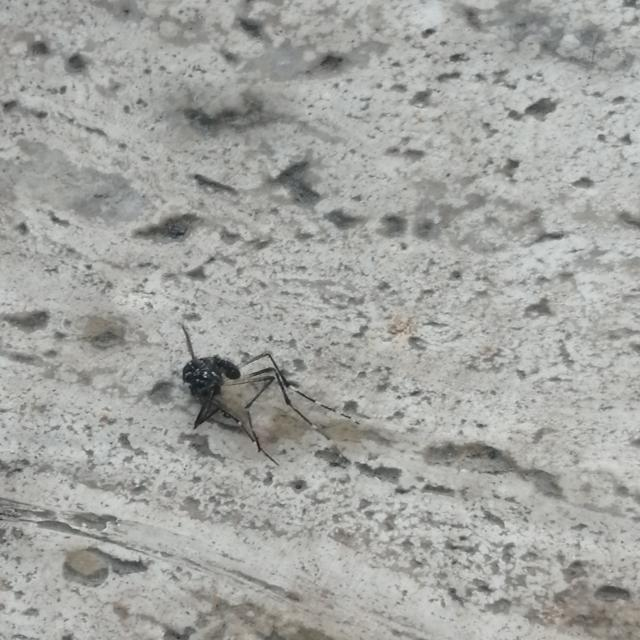albopictus: (156, 312, 370, 468)
